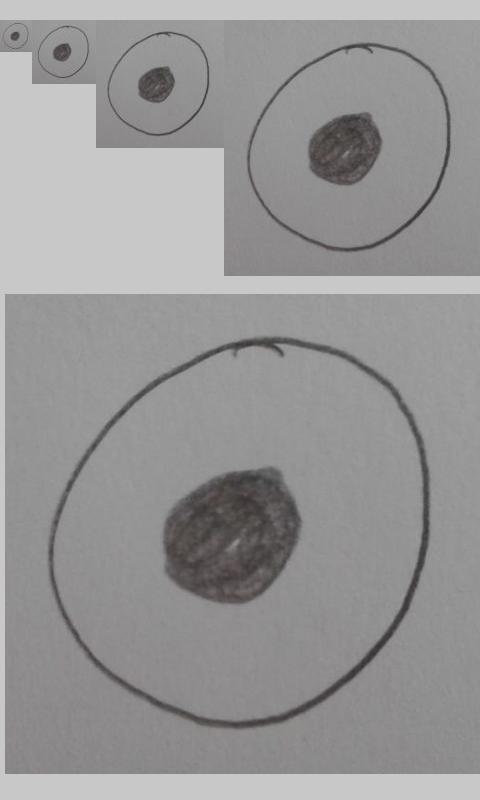radio_button: (45, 335, 434, 731), (245, 42, 454, 255), (106, 31, 211, 137), (37, 25, 90, 79), (2, 22, 30, 50)
